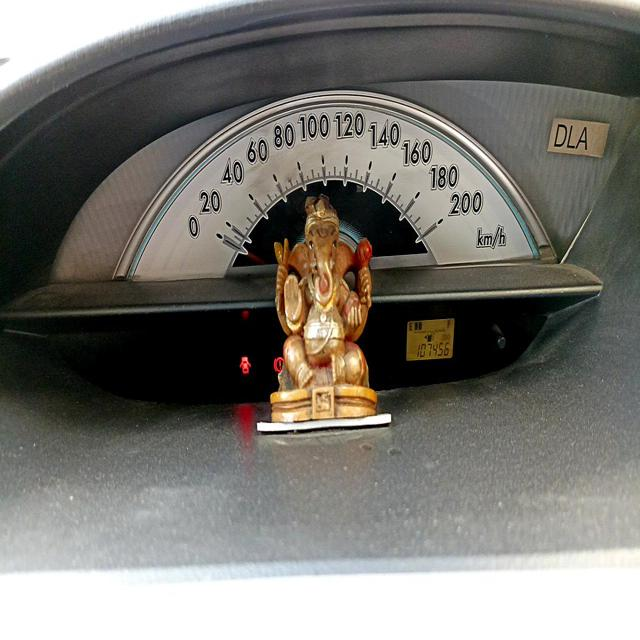odometer: (413, 339, 452, 363)
